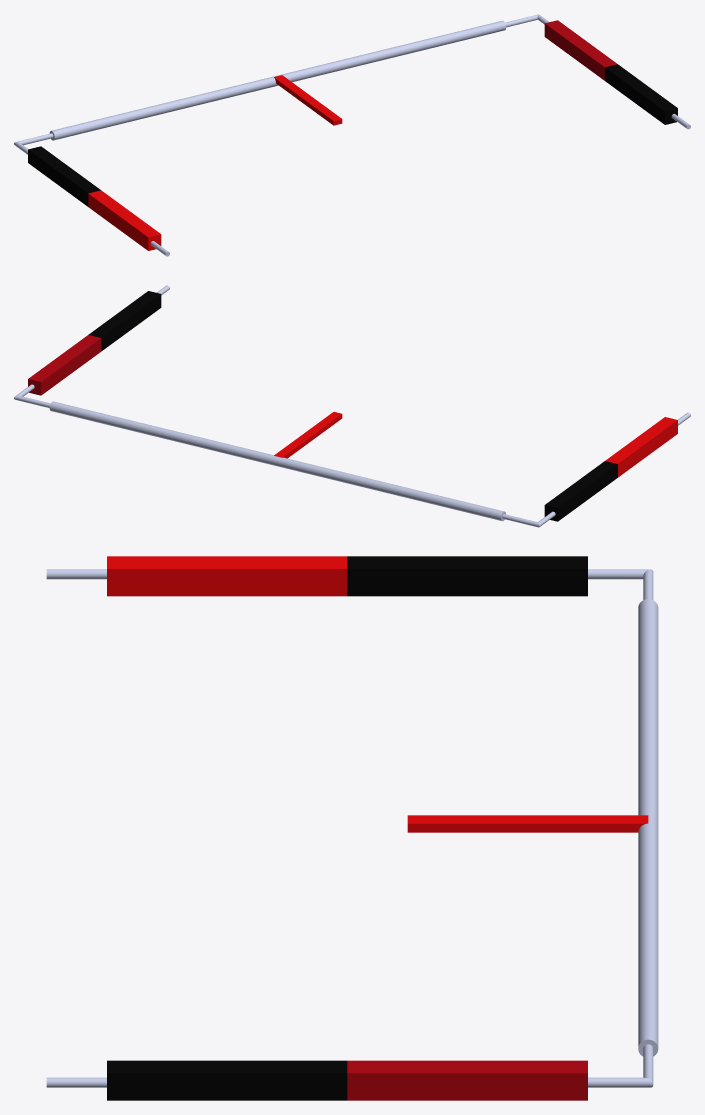
File: gate.dae
3 views of the same model, one above another, from view 1: azimuth 30°, elevation 25°; view 2: azimuth 150°, elevation 25°; view 3: azimuth 270°, elevation 25° (orthographic). The views are drawn at different scales.
Visible parts, largest first — view 1: node3, node2, node5, node0, node1, node4; view 2: node3, node0, node1, node2, node5, node4; view 3: node3, node0, node1, node2, node5, node4.
Boxes of the visible parts, x1=… form: node3: x1=14, y1=14, x2=690, y2=256; node2: x1=605, y1=64, x2=677, y2=124; node5: x1=88, y1=190, x2=161, y2=250; node0: x1=544, y1=20, x2=617, y2=80; node1: x1=28, y1=146, x2=100, y2=206; node4: x1=274, y1=75, x2=342, y2=125; node3: x1=14, y1=285, x2=690, y2=527; node0: x1=28, y1=335, x2=101, y2=395; node1: x1=544, y1=461, x2=617, y2=521; node2: x1=88, y1=291, x2=161, y2=351; node5: x1=605, y1=417, x2=677, y2=477; node4: x1=274, y1=412, x2=342, y2=458; node3: x1=46, y1=569, x2=658, y2=1087; node0: x1=347, y1=1060, x2=587, y2=1100; node1: x1=347, y1=556, x2=587, y2=596; node2: x1=107, y1=1060, x2=347, y2=1100; node5: x1=107, y1=556, x2=347, y2=596; node4: x1=407, y1=815, x2=648, y2=832.
Size of the model in its own units: 3.1 by 1.55 by 0.0762.
